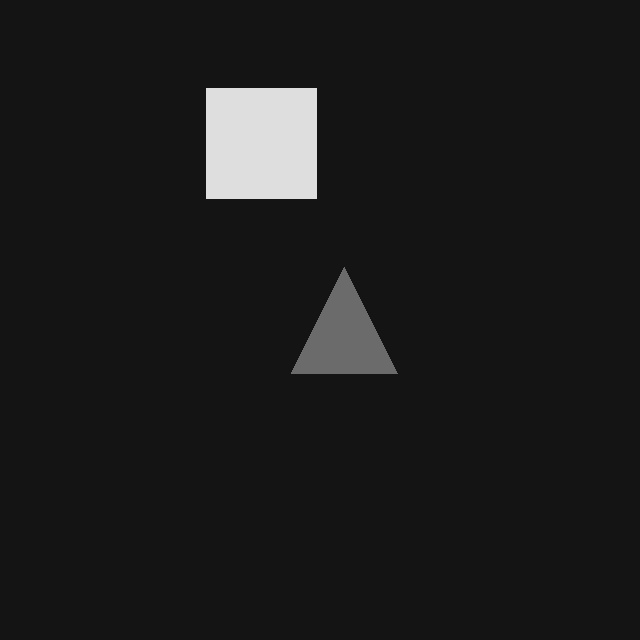square: (206, 88, 316, 198)
triangle: (291, 267, 397, 373)
